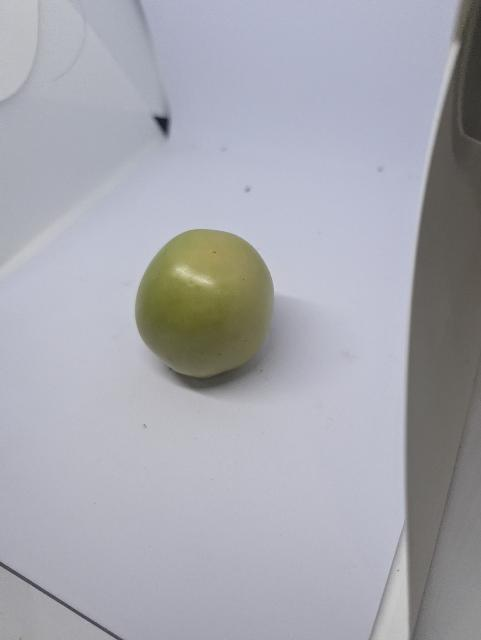green: (127, 214, 294, 394)
